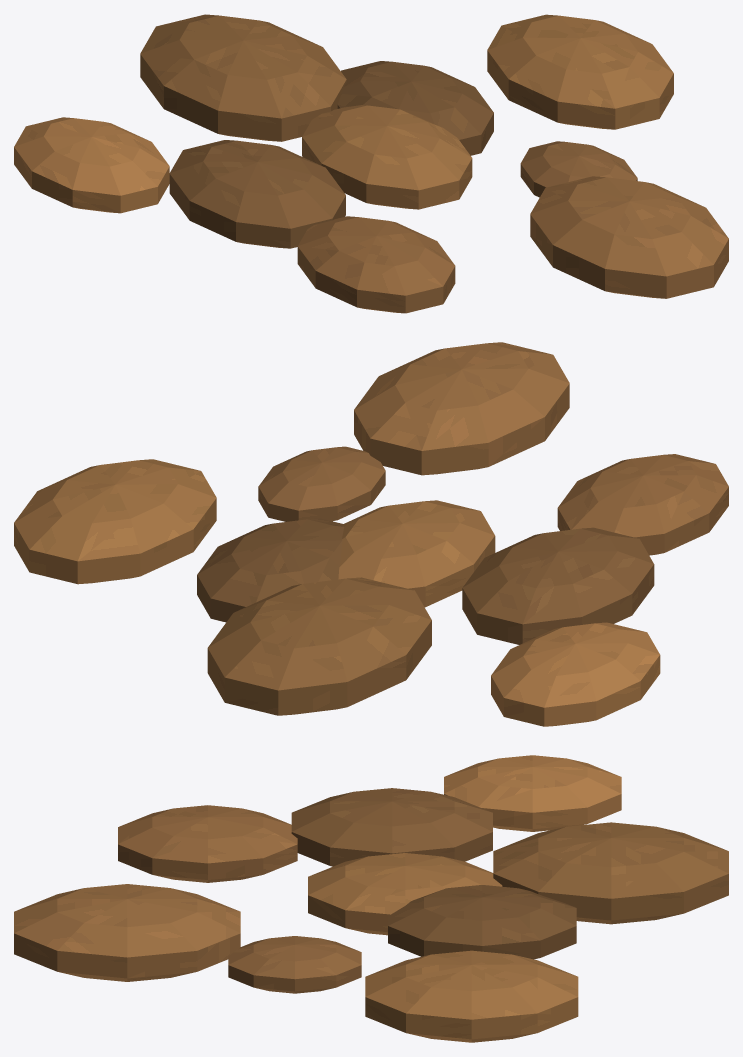
The model's file is seed_cauliflower.glb.
The picture shows the model from 3 angles, top to bottom: view 1: azimuth 30°, elevation 25°; view 2: azimuth 150°, elevation 25°; view 3: azimuth 270°, elevation 25°; orthographic projection. The views are drawn at different scales.
Visible parts, largest first — view 1: block_grain 4, block_grain 8, block_grain 6, block_grain 2, block_grain 0, block_grain 5, block_grain 7, block_grain 1, block_grain 3; view 2: block_grain 4, block_grain 8, block_grain 6, block_grain 2, block_grain 7, block_grain 5, block_grain 0, block_grain 1, block_grain 3; view 3: block_grain 4, block_grain 8, block_grain 6, block_grain 2, block_grain 5, block_grain 1, block_grain 7, block_grain 0, block_grain 3.
Boxes of the visible parts, x1=… form: block_grain 4: x1=140, y1=14, x2=346, y2=141; block_grain 8: x1=530, y1=176, x2=728, y2=298; block_grain 6: x1=487, y1=14, x2=673, y2=129; block_grain 2: x1=169, y1=140, x2=345, y2=248; block_grain 0: x1=302, y1=105, x2=472, y2=209; block_grain 5: x1=297, y1=216, x2=455, y2=313; block_grain 7: x1=14, y1=117, x2=169, y2=213; block_grain 1: x1=337, y1=61, x2=493, y2=155; block_grain 3: x1=520, y1=141, x2=637, y2=197; block_grain 4: x1=207, y1=577, x2=431, y2=715; block_grain 8: x1=354, y1=342, x2=569, y2=475; block_grain 6: x1=14, y1=459, x2=216, y2=584; block_grain 2: x1=462, y1=527, x2=654, y2=644; block_grain 7: x1=491, y1=622, x2=660, y2=726; block_grain 5: x1=557, y1=454, x2=728, y2=555; block_grain 0: x1=338, y1=500, x2=495, y2=607; block_grain 1: x1=197, y1=518, x2=343, y2=622; block_grain 3: x1=258, y1=446, x2=385, y2=521; block_grain 4: x1=493, y1=822, x2=728, y2=924; block_grain 8: x1=14, y1=884, x2=240, y2=981; block_grain 6: x1=365, y1=950, x2=578, y2=1042; block_grain 2: x1=291, y1=788, x2=492, y2=866; block_grain 5: x1=118, y1=805, x2=297, y2=882; block_grain 1: x1=388, y1=885, x2=576, y2=959; block_grain 7: x1=444, y1=755, x2=621, y2=831; block_grain 0: x1=308, y1=853, x2=502, y2=935; block_grain 3: x1=228, y1=936, x2=361, y2=993.
Size of the model in its own units: 0.0196 by 0.0024 by 0.022.
Materials: 1 (1 with a texture image).
